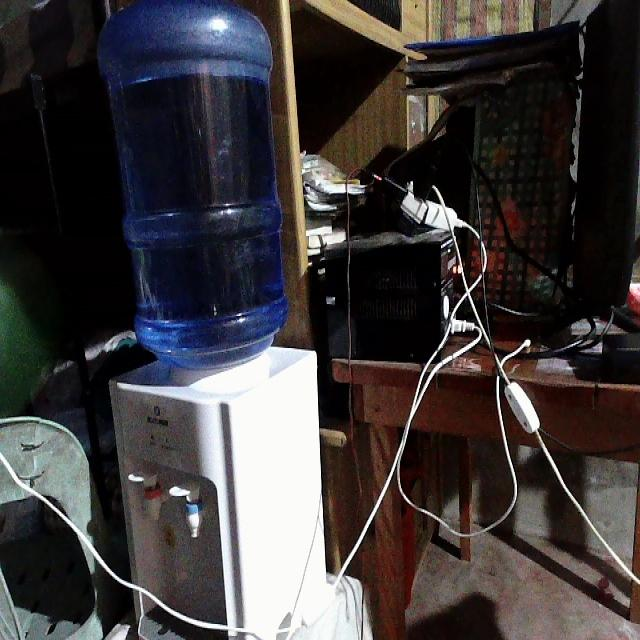-: (367, 148, 465, 235)
